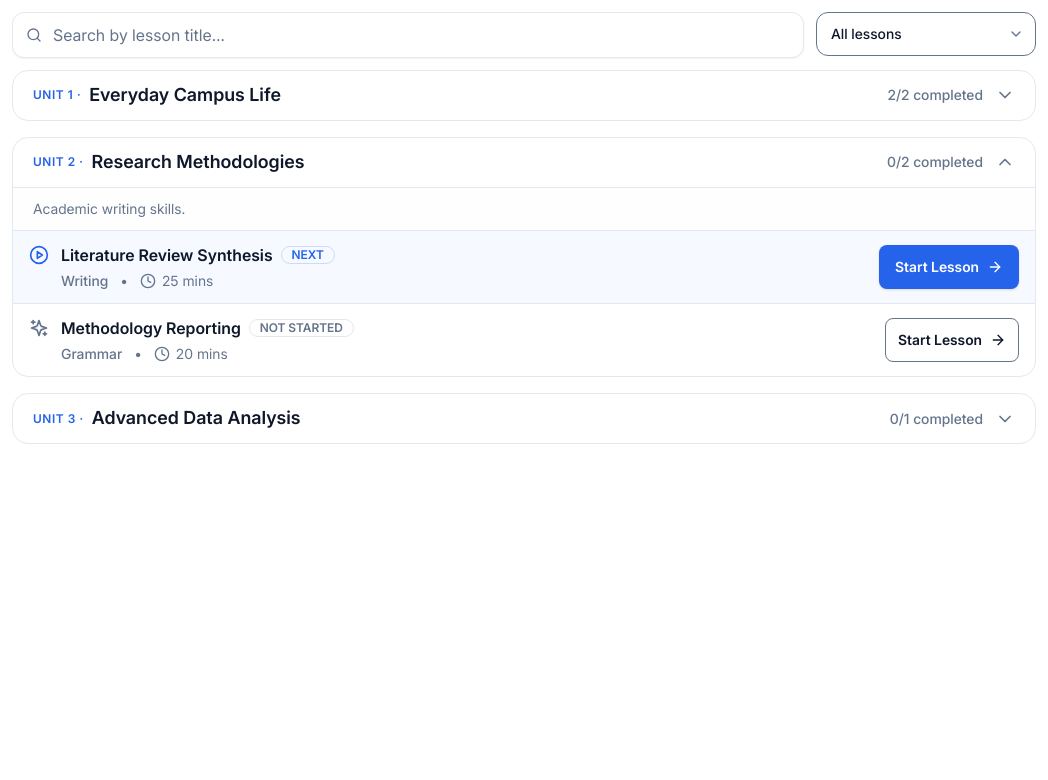
it: LearnPage (P10.2) › toggles unit expansion when clicked
Expected: the text "Academic Word List - Topic 1" is not shown
// Click to expand Unit 1
Click the button "Unit 1 · Everyday Campus Life 2/2 completed" at (49, 95), box top-left (13, 71), bottom-right (1035, 120)
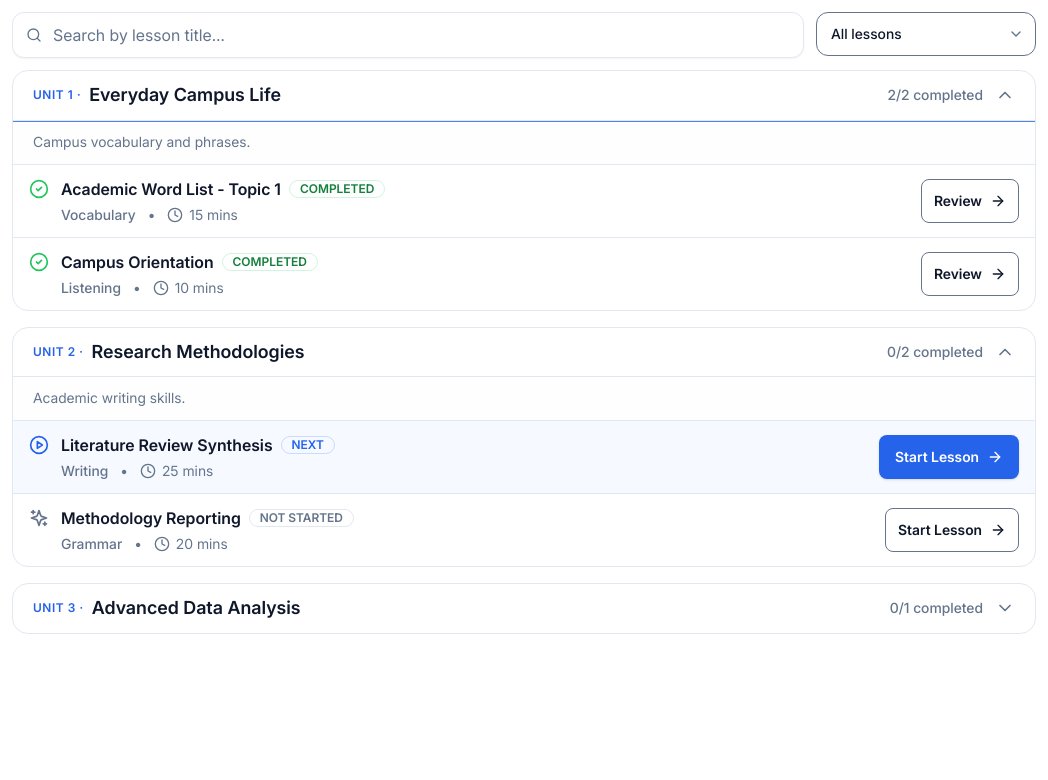
Expected: the button "Unit 1 · Everyday Campus Life 2/2 completed" is expanded
Expected: the text "Academic Word List - Topic 1" is shown, top-left (61, 176), bottom-right (281, 200)
// Click to collapse Unit 1 again
Click the button "Unit 1 · Everyday Campus Life 2/2 completed" at (49, 95), box top-left (13, 71), bottom-right (1035, 120)
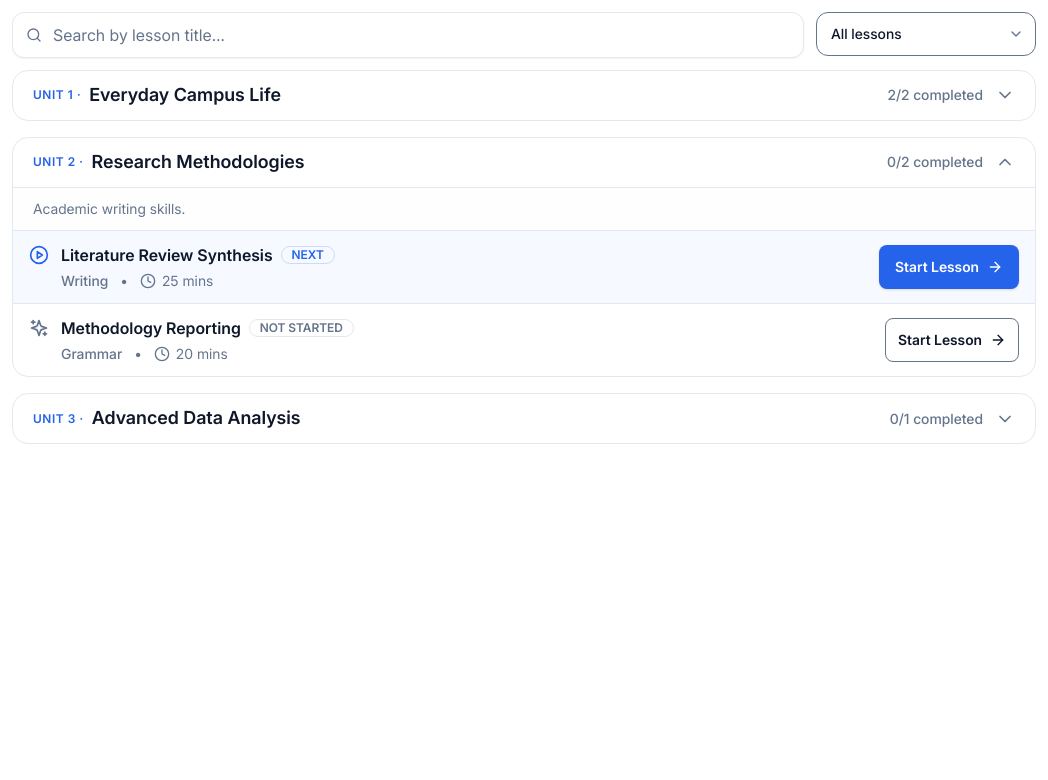
Expected: the button "Unit 1 · Everyday Campus Life 2/2 completed" is collapsed, top-left (13, 71), bottom-right (1035, 120)
Expected: the text "Academic Word List - Topic 1" is gone
